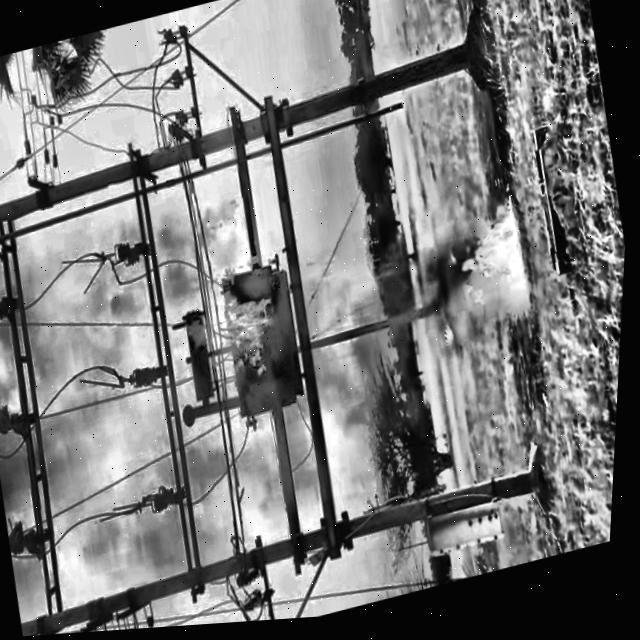Fire: (169, 222, 306, 409), (435, 182, 552, 350)
